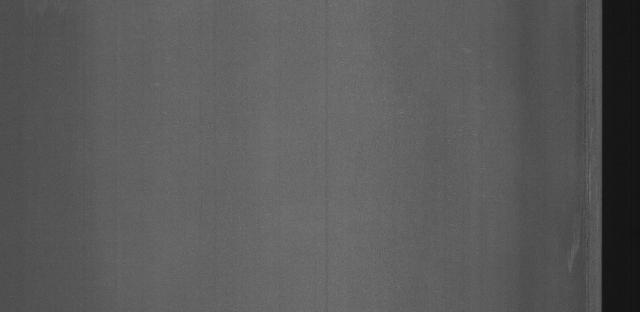silk_spot: (568, 60, 599, 272)
